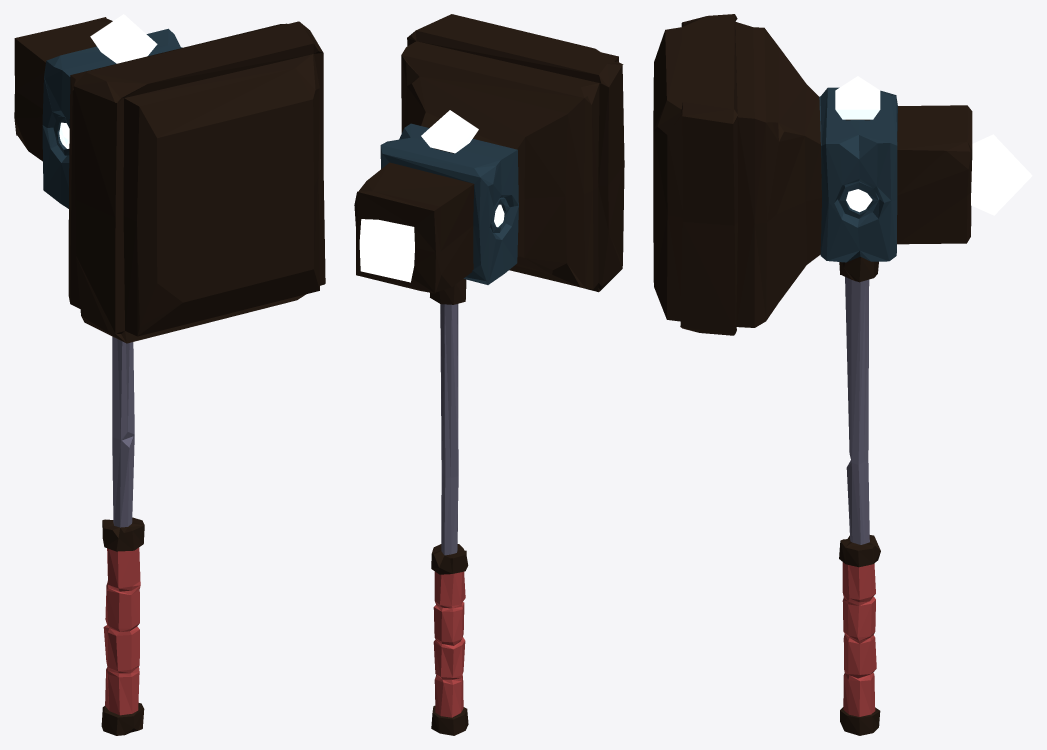
The model's file is SFFA_Weapon_Hammer_Iron_003.fbx.
3 views of the same model, side by side, from view 1: azimuth 30°, elevation 25°; view 2: azimuth 150°, elevation 25°; view 3: azimuth 270°, elevation 25° (orthographic). The views are drawn at different scales.
Parts seen in each view (by area): view 1: SFFA_Weapon_Hammer_Iron_003; view 2: SFFA_Weapon_Hammer_Iron_003; view 3: SFFA_Weapon_Hammer_Iron_003.
Part boxes in pixels (box(x1,y1,x2,y2)): SFFA_Weapon_Hammer_Iron_003: box(14, 14, 325, 735); SFFA_Weapon_Hammer_Iron_003: box(354, 14, 624, 735); SFFA_Weapon_Hammer_Iron_003: box(653, 14, 1032, 735).
Bounding box in the file's own units: 28.69 × 85.72 × 43.94.
